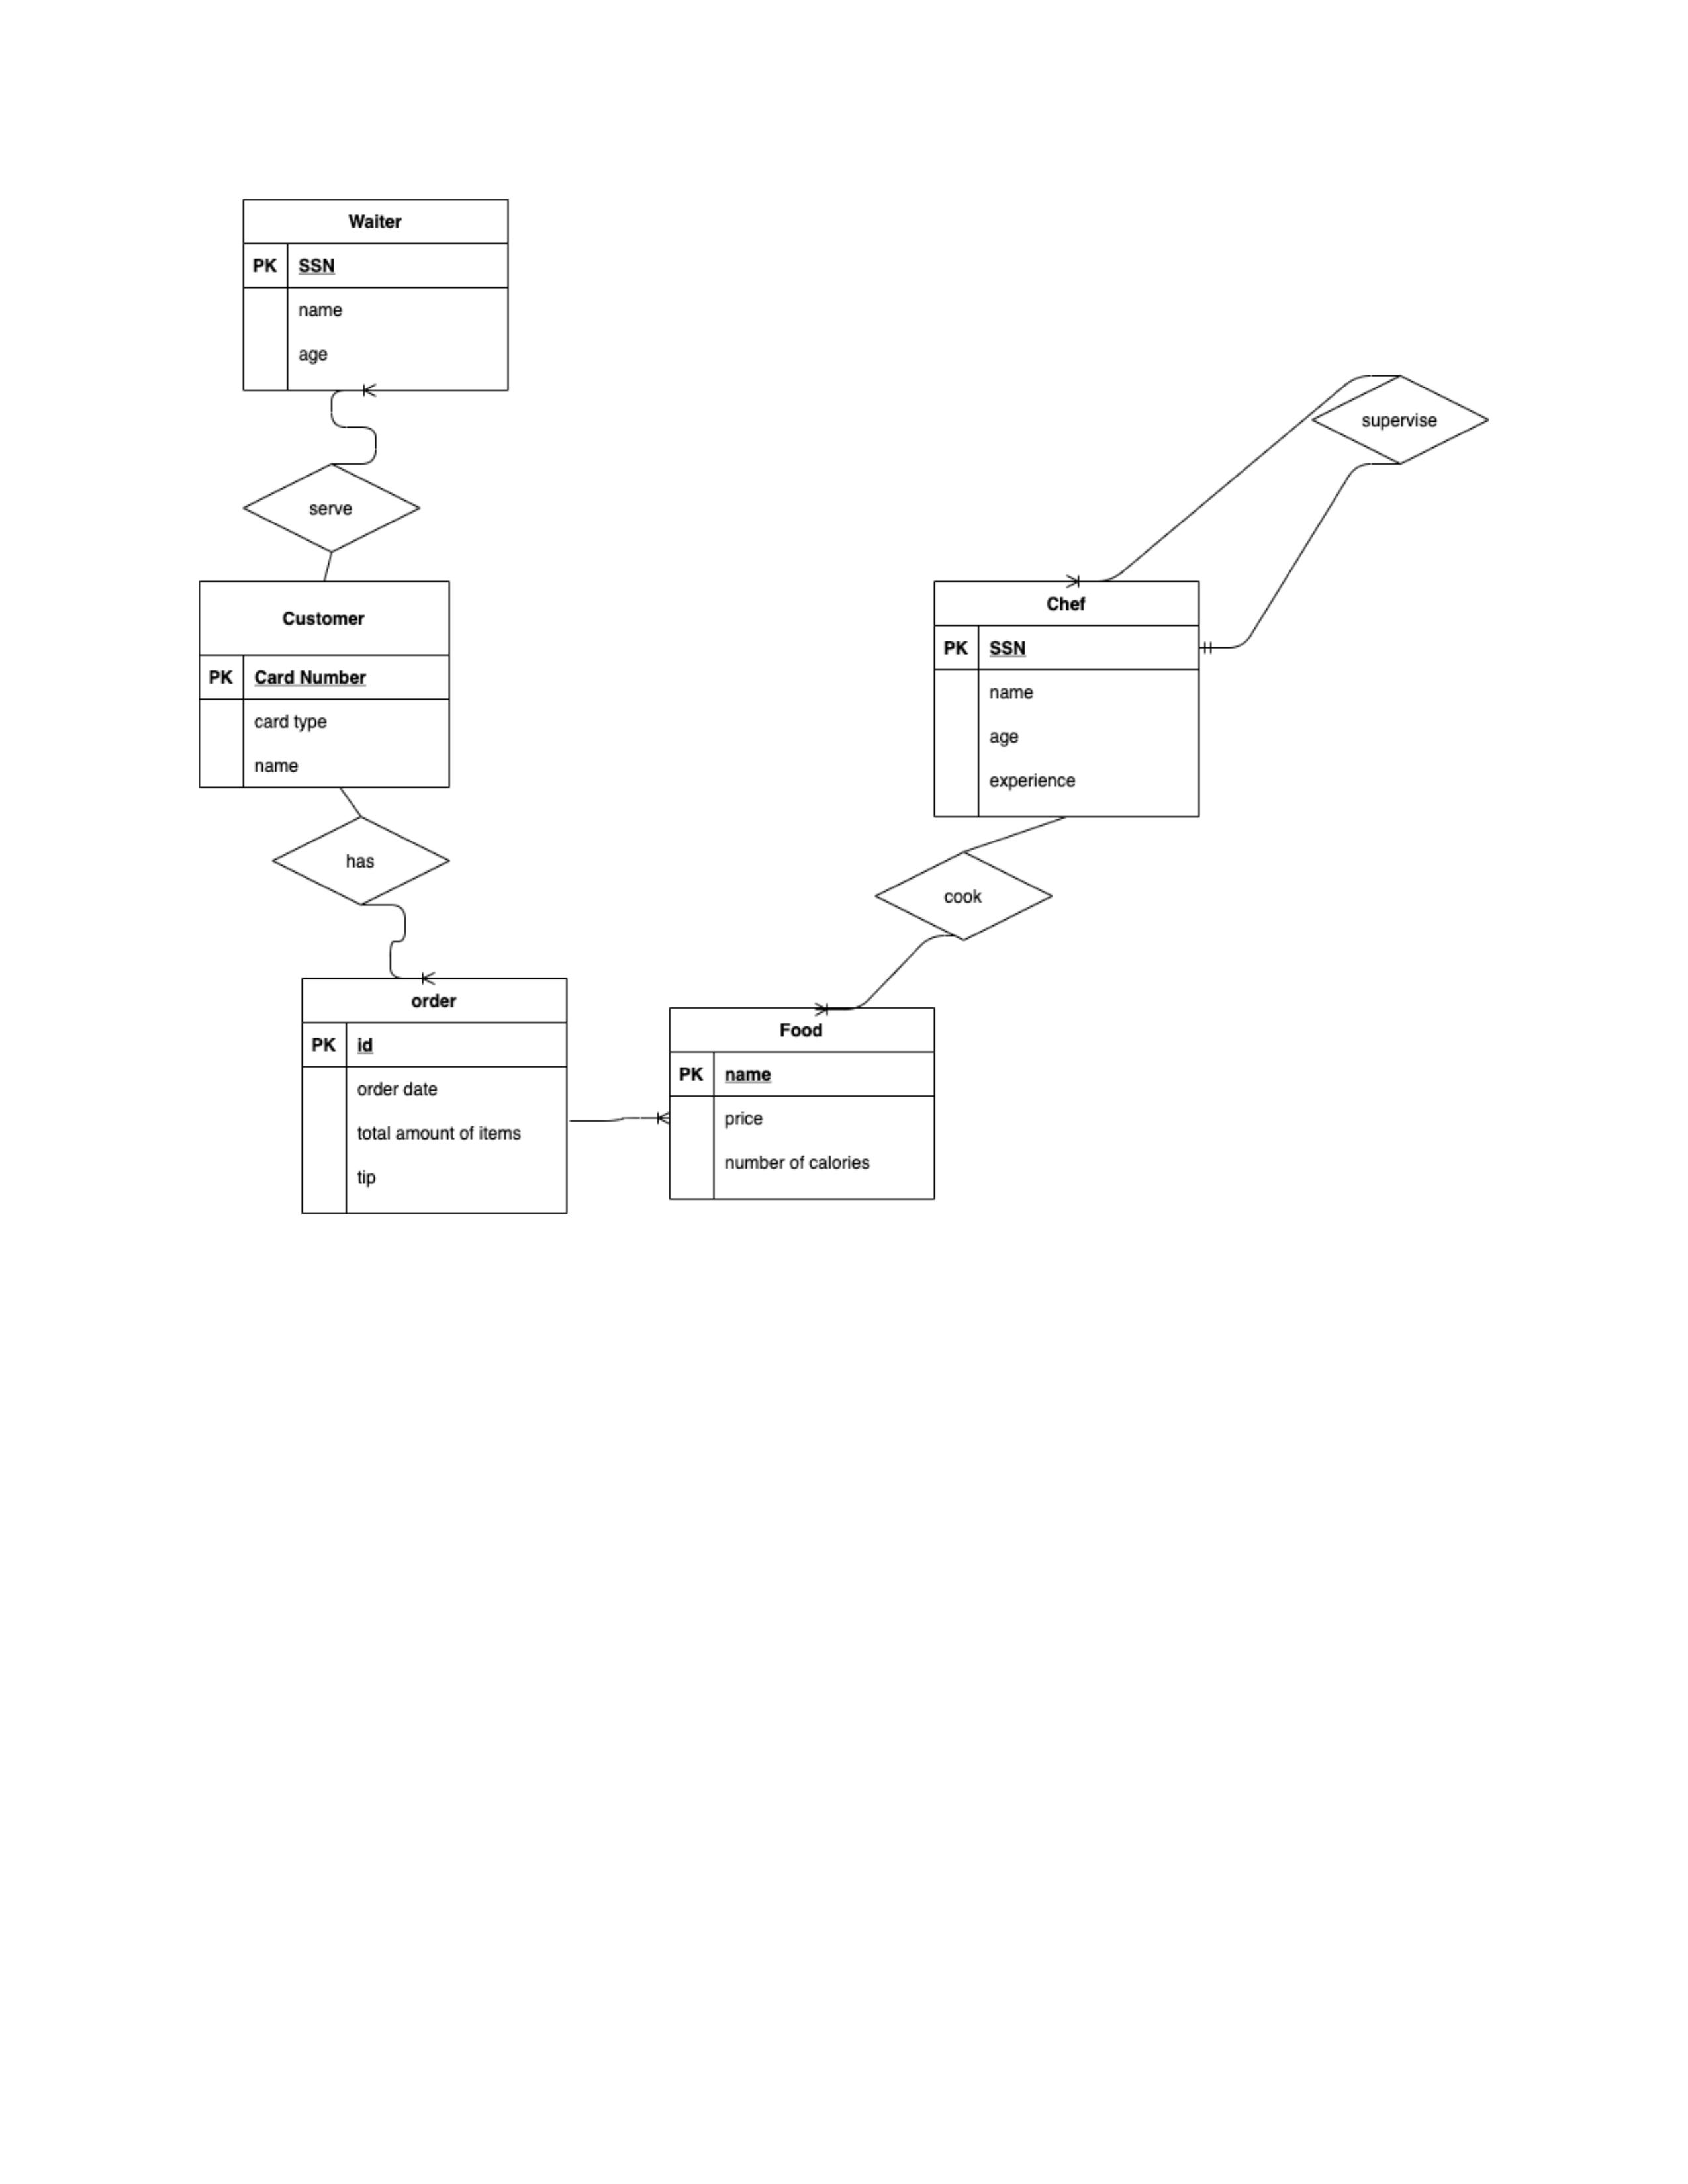Entity: (933, 580, 1202, 819), (300, 977, 569, 1214), (199, 580, 452, 789), (241, 197, 511, 392), (668, 1007, 936, 1202)
Relationship: (1312, 374, 1491, 464), (874, 851, 1053, 941), (243, 463, 420, 553), (271, 815, 450, 904)
